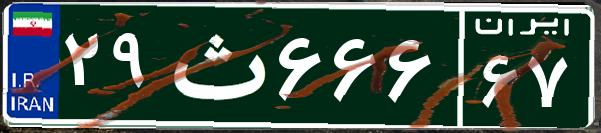2: (57, 26, 110, 107)
6: (385, 28, 445, 110), (273, 28, 330, 110), (330, 28, 385, 110), (475, 38, 525, 113)
7: (525, 38, 570, 115)
9: (110, 28, 158, 105)
ث: (158, 15, 273, 115)
